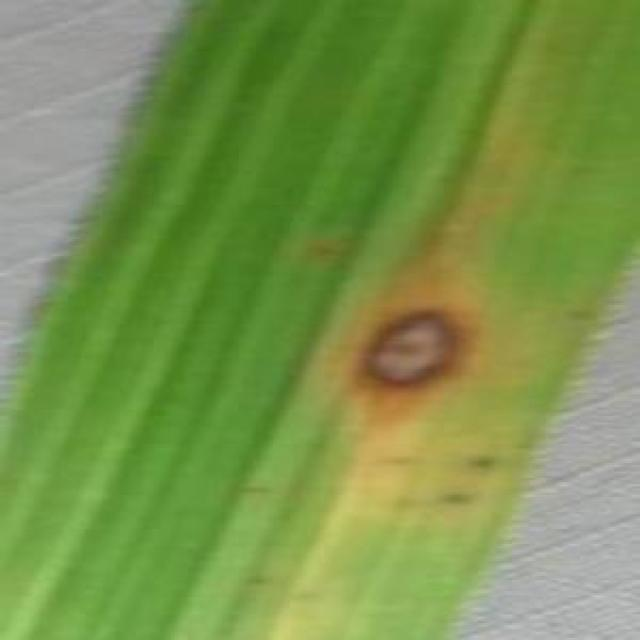Brown_Spot: (328, 287, 480, 417)
